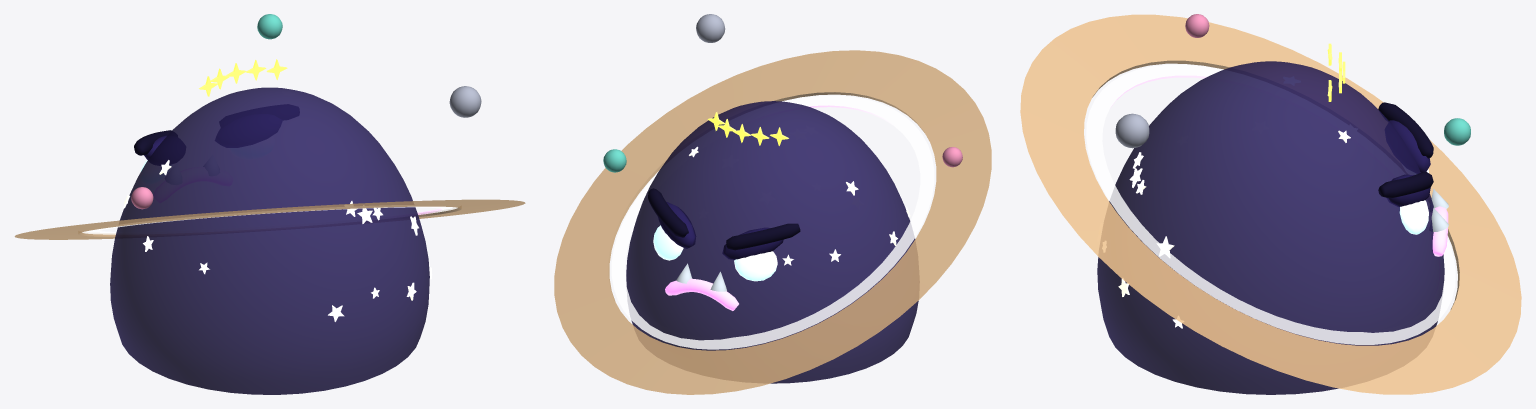
The model's file is Guardian_Cosmic.glb.
3 renders of one model, left to right at view 1: azimuth 30°, elevation 25°; view 2: azimuth 150°, elevation 25°; view 3: azimuth 270°, elevation 25°, orthographic. The views are drawn at different scales.
Parts seen in each view (by area): view 1: Body, Ring, Stars, MoonGrey, Crown, RingInner, MoonTeal; view 2: Body, Ring, RingInner, Brows, Eyes, Lids, Mouth, MoonGrey, Crown, MoonTeal, Stars, Teeth; view 3: Body, Ring, RingInner, Brows, Lids, MoonGrey, Eyes, Stars, MoonTeal, Mouth, Teeth, MoonPink.
Boxes of the visible parts, box(x1,y1,x2,y2) form: Body: box(110, 87, 429, 394); Ring: box(14, 199, 525, 239); Stars: box(123, 160, 432, 321); MoonGrey: box(449, 86, 481, 117); Crown: box(199, 59, 287, 96); RingInner: box(82, 206, 457, 234); MoonTeal: box(257, 14, 282, 39); Body: box(626, 101, 918, 383); Ring: box(554, 50, 991, 394); RingInner: box(611, 95, 934, 349); Brows: box(648, 188, 800, 250); Eyes: box(653, 225, 777, 281); Lids: box(657, 201, 783, 259); Mouth: box(665, 278, 738, 310); MoonGrey: box(696, 14, 725, 42); Crown: box(707, 112, 788, 145); MoonTeal: box(603, 149, 626, 172); Stars: box(689, 146, 910, 265); Teeth: box(676, 263, 726, 291); Body: box(1097, 61, 1444, 394); Ring: box(1020, 14, 1521, 394); RingInner: box(1086, 64, 1455, 344); Brows: box(1378, 102, 1433, 198); Lids: box(1388, 120, 1430, 206); MoonGrey: box(1115, 113, 1149, 148); Eyes: box(1399, 169, 1428, 234); Stars: box(1100, 130, 1350, 328); MoonTeal: box(1444, 118, 1470, 145); Mouth: box(1432, 206, 1448, 256); Teeth: box(1431, 188, 1448, 231); MoonPink: box(1185, 14, 1209, 37).
Bounding box in the file's own units: 28.36 × 16.02 × 25.97.
